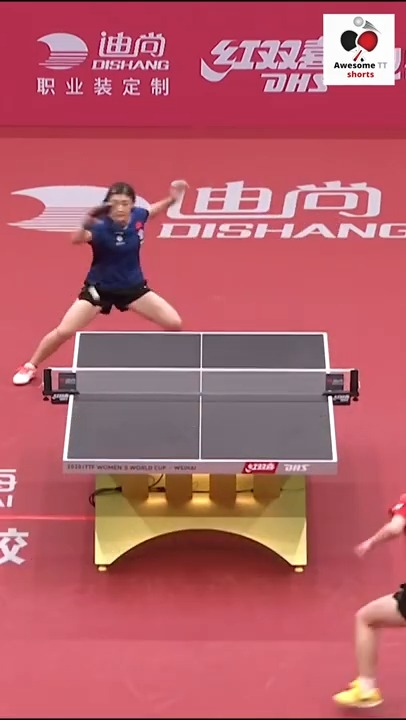Ball: (88, 288, 101, 301)
